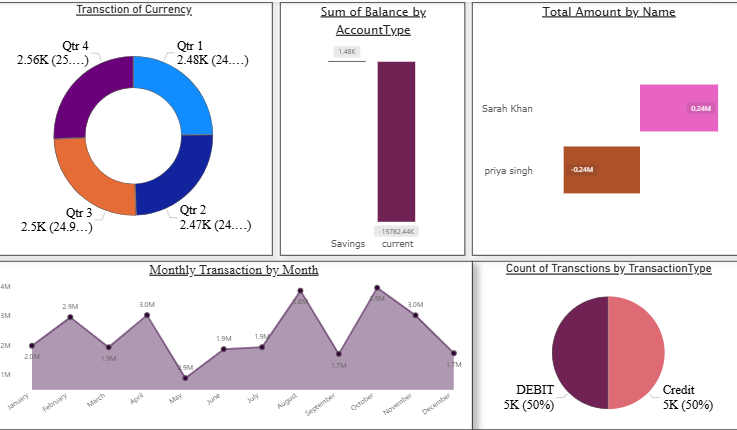

The page's visual inventory and layout, read from the dashboard file:
{"tool":"powerbi","page":{"name":"Page 1","canvas":[1280,720],"ordinal":0},"visuals":[{"type":"pieChart","fields":{"Y":["MeasureTable.Count of Transctions"],"Category":["CombinedBankingDataset.TransactionType"]},"box":[803.4,435.7,457.9,284.3],"z":0},{"type":"areaChart","fields":{"Category":["CombinedBankingDataset.TransactionDate.Variation.Date Hierarchy.Month"],"Y":["MeasureTable.Monthly Transaction"]},"box":[0,435.1,804.2,284.4],"z":1},{"type":"barChart","title":"Total  Amount by Name","fields":{"Y":["Sum(CombinedBankingDataset.Amount)"],"Category":["CombinedBankingDataset.Name"]},"box":[803.4,0,457.9,425.5],"z":2},{"type":"clusteredColumnChart","fields":{"Category":["CombinedBankingDataset.AccountType"],"Y":["Sum(CombinedBankingDataset.Balance)"]},"box":[480,0,311.5,425.5],"z":3},{"type":"donutChart","title":"Transction of Currency ","fields":{"Category":["CombinedBankingDataset.TransactionDate.Variation.Date Hierarchy.Quarter"],"Y":["CountNonNull(CombinedBankingDataset.Currency)"]},"box":[0,0,468.1,425.5],"z":4}]}

Visuals, with their boxes in screenshot pixels (x1, y1, x2, y2):
pieChart - MeasureTable.Count of Transctions x CombinedBankingDataset.TransactionType: box(471, 258, 736, 426)
areaChart - CombinedBankingDataset.TransactionDate.Variation.Date Hierarchy.Month x MeasureTable.Monthly Transaction: box(0, 258, 472, 425)
"Total  Amount by Name" barChart: box(471, 2, 736, 252)
clusteredColumnChart - CombinedBankingDataset.AccountType x Sum(CombinedBankingDataset.Balance): box(281, 2, 464, 252)
"Transction of Currency " donutChart: box(0, 2, 274, 252)
